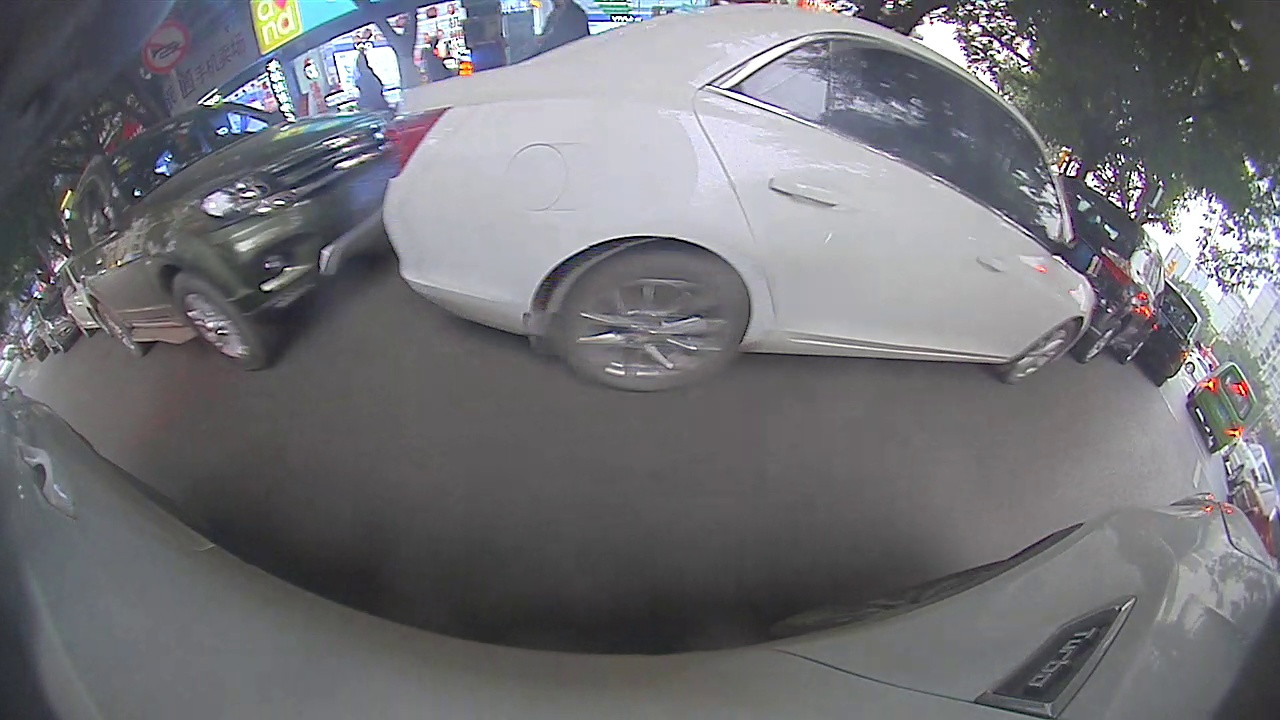car: (377, 1, 1097, 397), (66, 103, 396, 374)
front: (172, 276, 268, 369), (1008, 317, 1079, 387)
rear: (552, 244, 751, 396), (94, 302, 141, 357), (1080, 321, 1121, 366)
